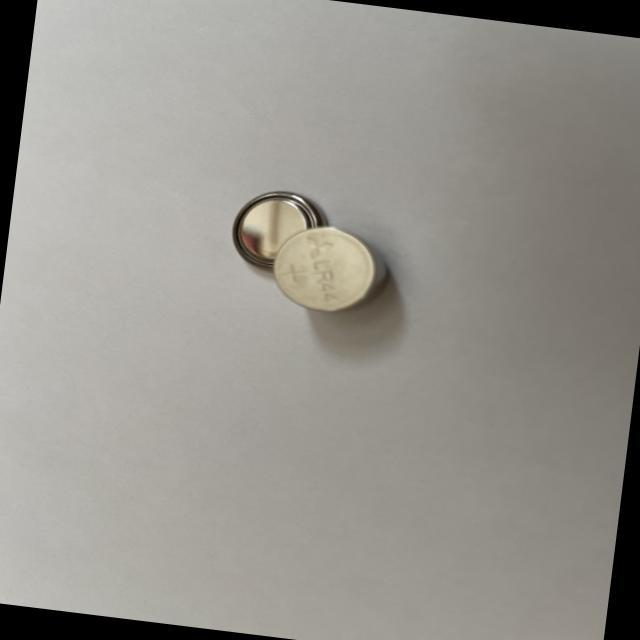COIN: (269, 220, 391, 319), (228, 185, 329, 274)
